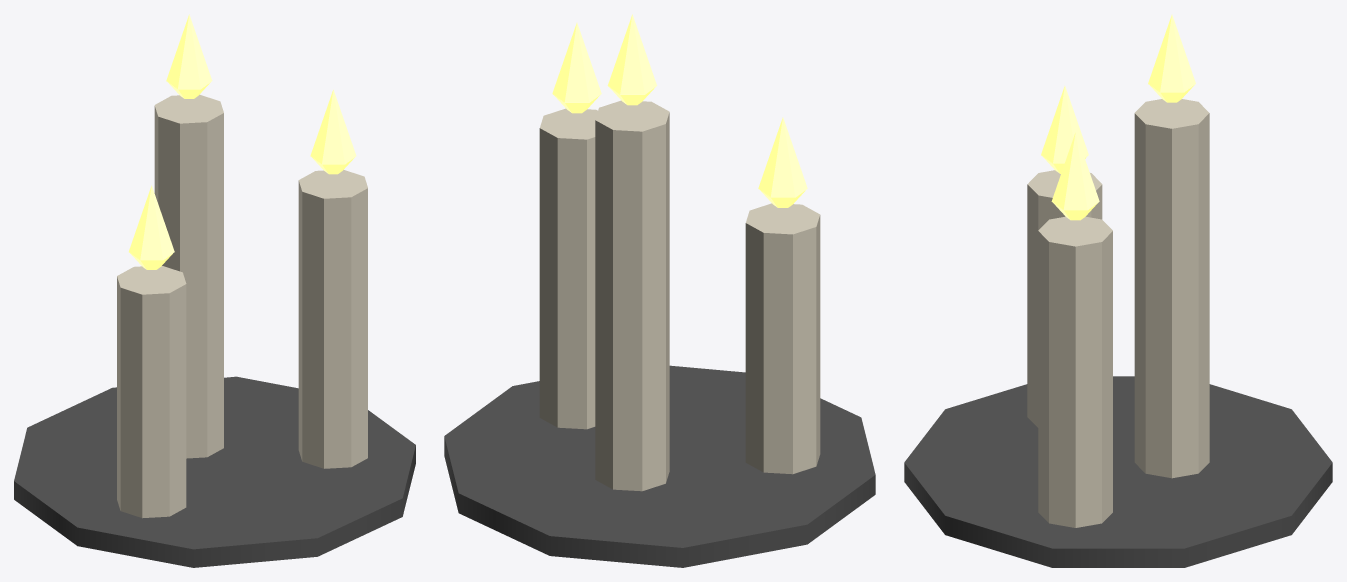
The model's file is candles.glb.
3 renders of one model, left to right at view 1: azimuth 30°, elevation 25°; view 2: azimuth 150°, elevation 25°; view 3: azimuth 270°, elevation 25°, orthographic. The views are drawn at different scales.
Visible parts, largest first — view 1: wax, iron, flame; view 2: wax, iron, flame; view 3: wax, iron, flame.
Part boxes in pixels (box(x1,y1,x2,y2)): wax: box(117, 94, 367, 518); iron: box(14, 376, 415, 567); flame: box(128, 14, 356, 269); wax: box(539, 100, 820, 491); iron: box(444, 365, 875, 567); flame: box(552, 14, 807, 207); wax: box(1027, 99, 1209, 527); iron: box(904, 376, 1332, 567); flame: box(1041, 14, 1195, 220).
Bounding box in the file's own units: 0.3804 × 0.482 × 0.4.
